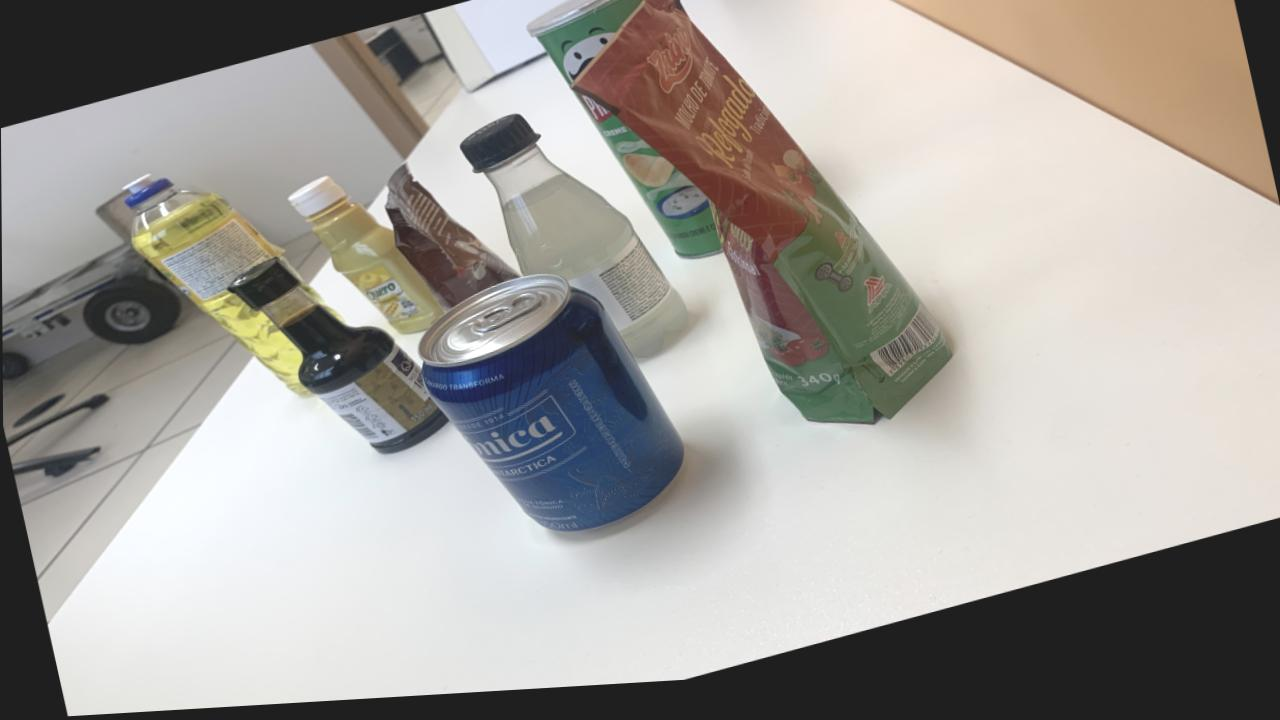Coffee-Pantry_Items: (384, 170, 518, 314)
Detergent-Cleanup_Items: (123, 176, 306, 399)
English_Sauce-Pantry_Items: (228, 262, 446, 458)
Mustard-Pantry_Items: (288, 180, 443, 339)
Pringles-Snacks: (579, 102, 721, 267), (527, 0, 648, 90)
Soda-Drinks: (460, 120, 687, 365)
Tomato_Sauce-Pantry_Items: (572, 0, 950, 434)
Tonic-Drinks: (417, 280, 683, 539)
